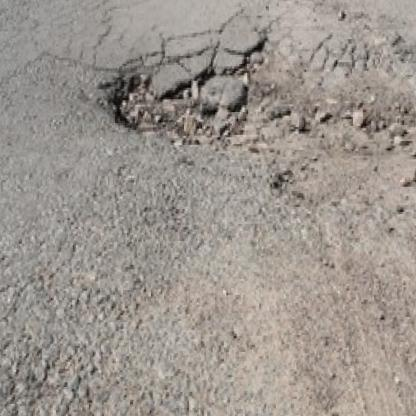pothole: (108, 36, 268, 158)
